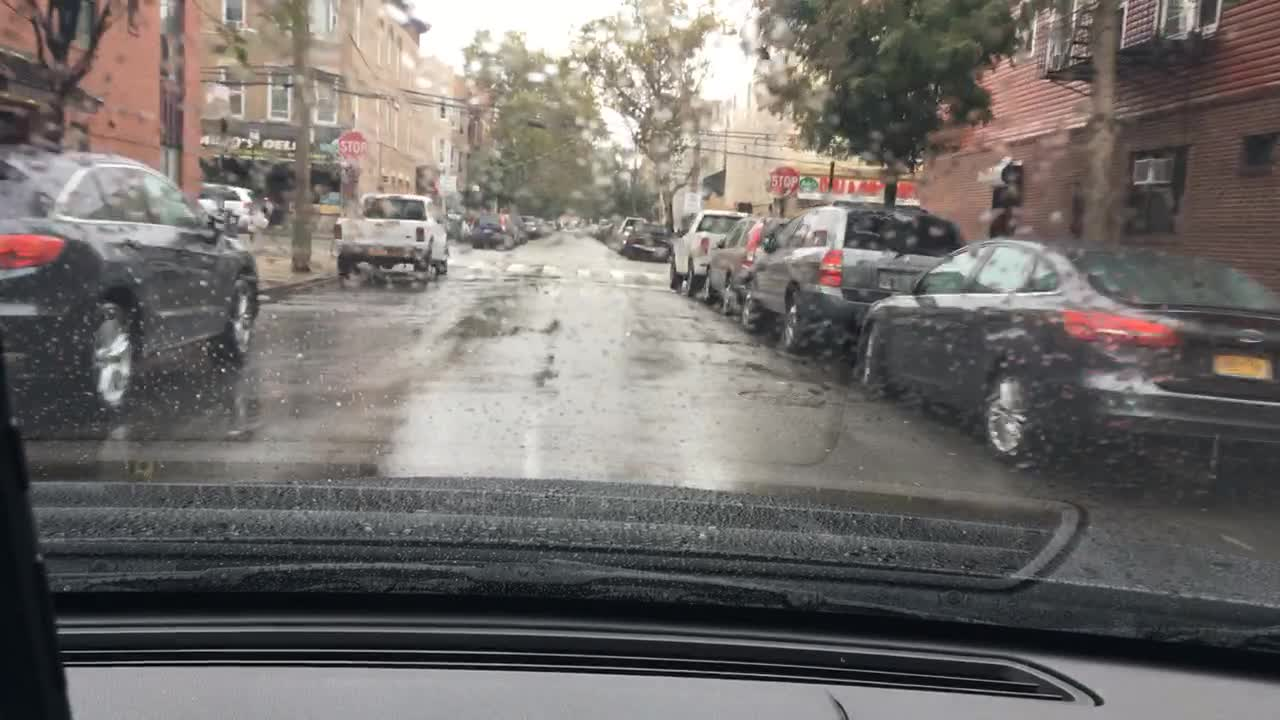car: (856, 241, 1278, 471), (1, 140, 255, 416), (742, 206, 962, 354), (698, 218, 784, 314), (667, 209, 745, 293), (200, 182, 272, 233), (625, 221, 670, 262), (468, 212, 519, 248), (610, 215, 646, 248), (442, 208, 466, 239), (517, 214, 538, 239), (594, 218, 613, 242), (582, 218, 600, 236), (552, 217, 564, 235), (535, 214, 544, 238), (567, 218, 582, 230), (544, 218, 553, 236)
person: (456, 212, 466, 242)
traffic sign: (769, 164, 796, 197), (337, 131, 367, 158)
truck: (333, 197, 448, 278)
